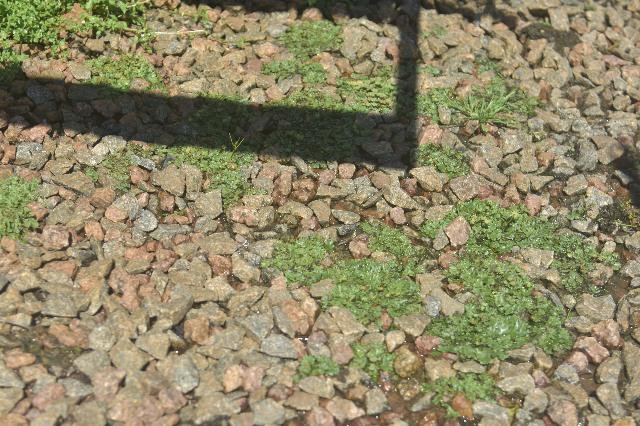MalezaMontesDelPlata: (430, 195, 614, 367), (259, 224, 433, 330), (257, 17, 362, 182), (175, 84, 267, 213), (433, 77, 556, 133), (342, 67, 448, 126), (0, 0, 70, 81), (76, 49, 171, 99), (0, 168, 50, 243), (407, 135, 474, 183)
